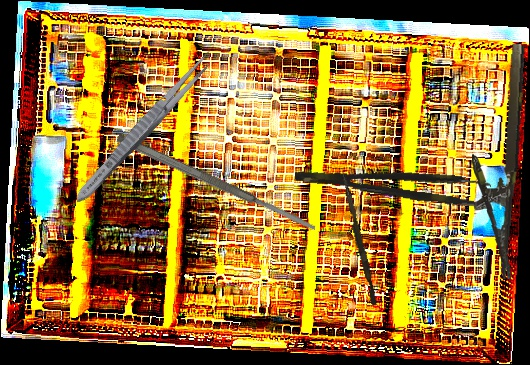Dressing Forceps: (69, 46, 219, 209)
Needle Holder: (463, 41, 528, 280)
Pusher: (336, 171, 381, 306)
Spatula Surgical: (115, 131, 318, 235)
Tissue Forceps: (293, 153, 493, 211)
